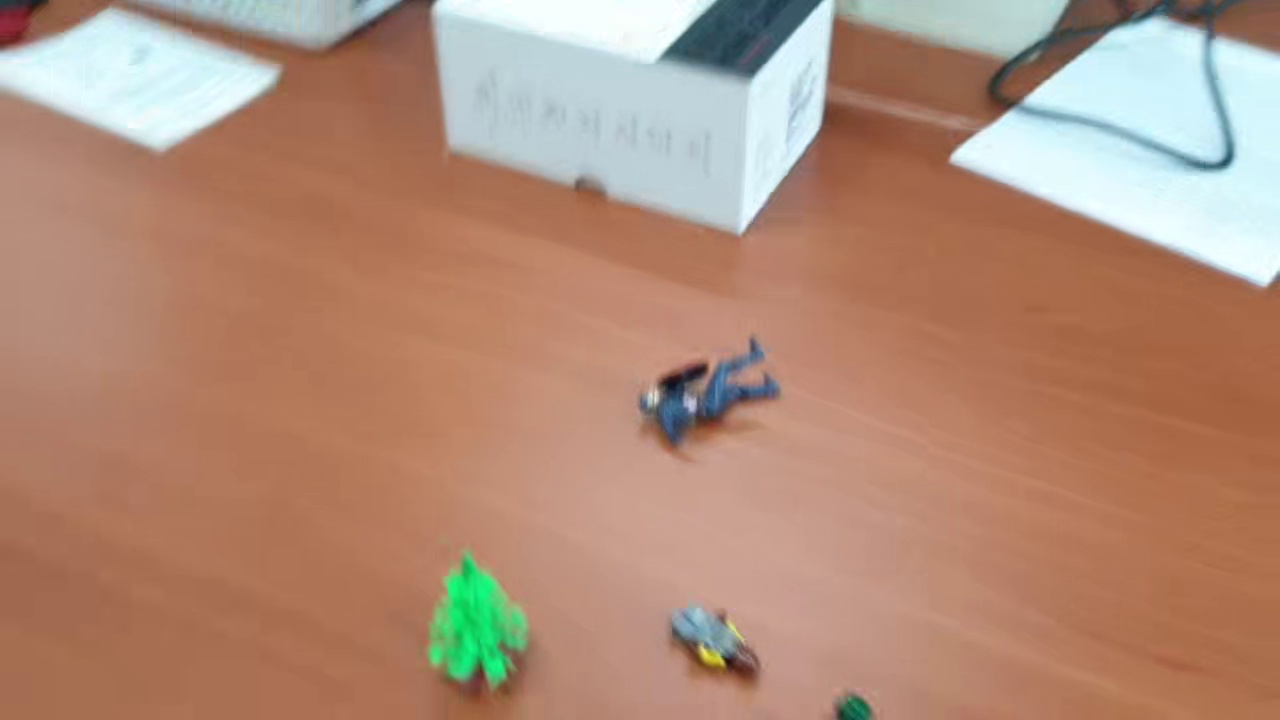people: (639, 334, 785, 453), (666, 599, 764, 687)
tree: (423, 543, 532, 704)
